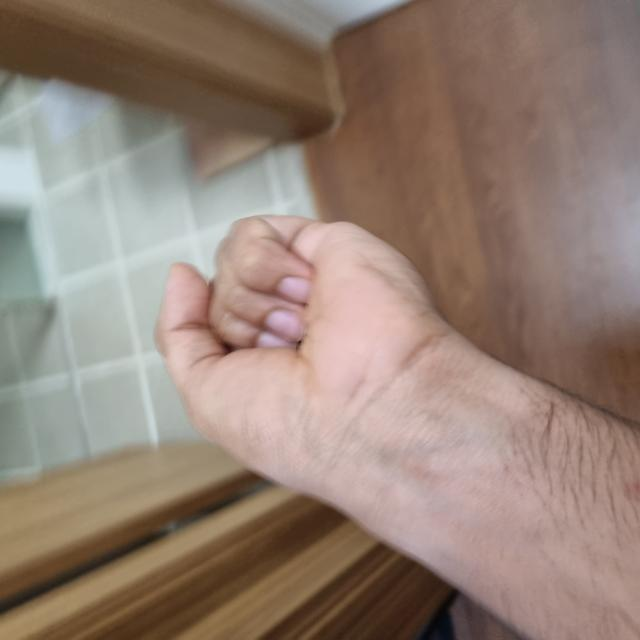Rock: (126, 159, 425, 450)
